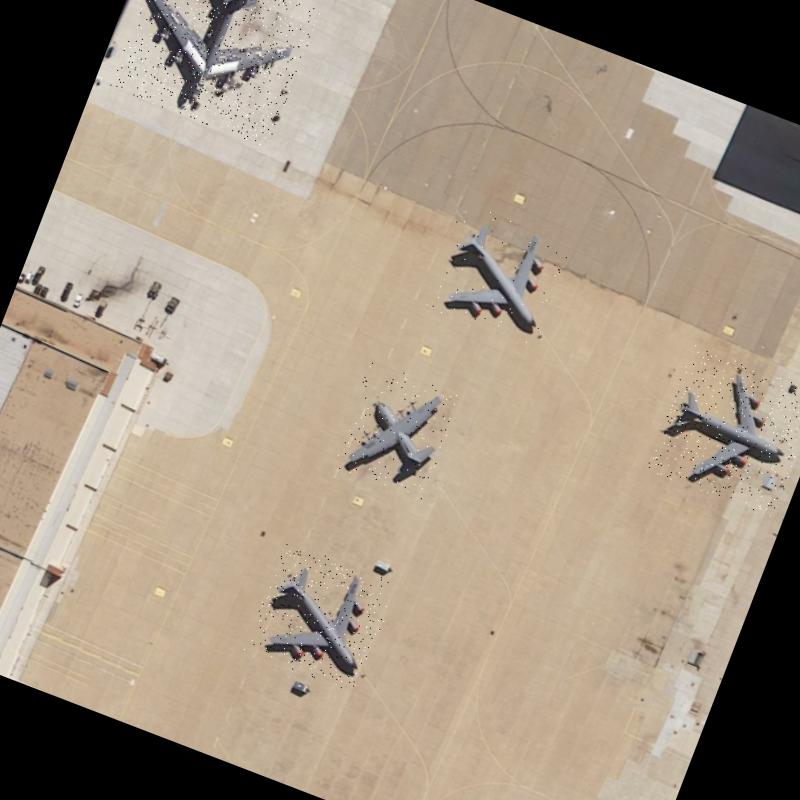A14: (644, 344, 800, 518), (243, 540, 398, 694), (419, 200, 574, 353)
A2: (329, 360, 463, 502)
A8: (109, 0, 321, 147)
